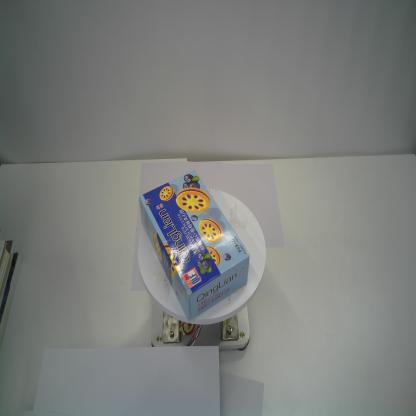Dessert: (138, 168, 250, 322)
